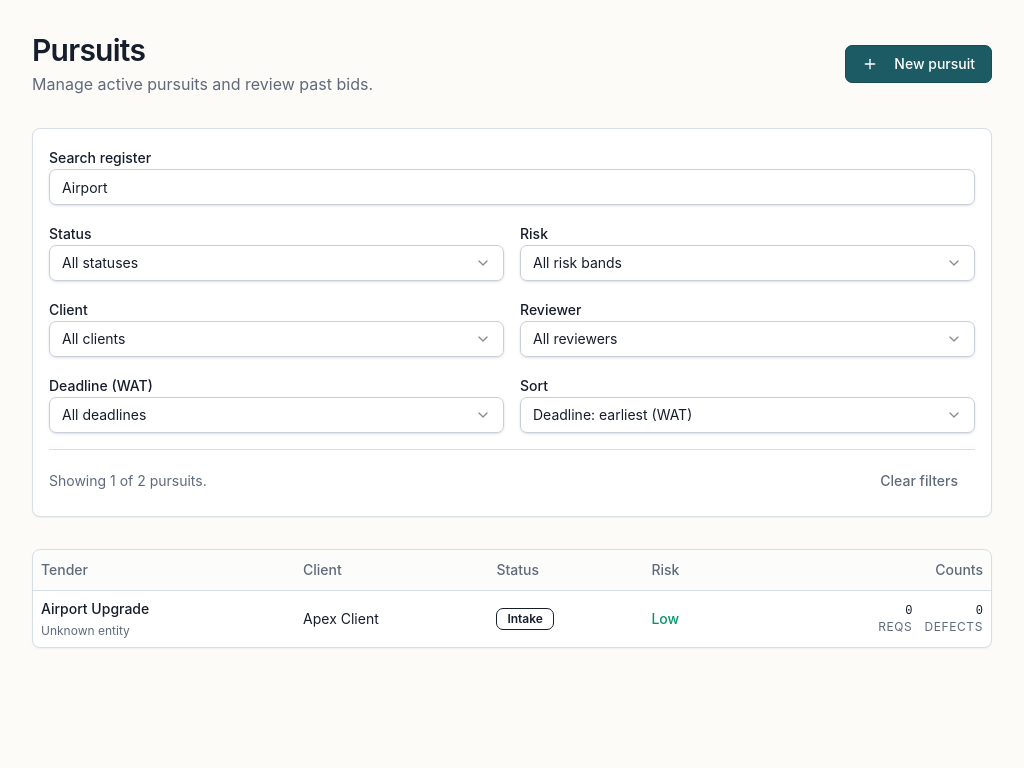
Test: project register controls › applies bounded search from the URL and writes subsequent search changes back
expect the link "Airport Upgrade" is shown: met, box [41, 598, 149, 618]
expect the text "Bridge Rehabilitation" is not shown: met
Replace the text in the search field labelled "Search register" with "Bridge" at (512, 187), box [49, 169, 975, 205]
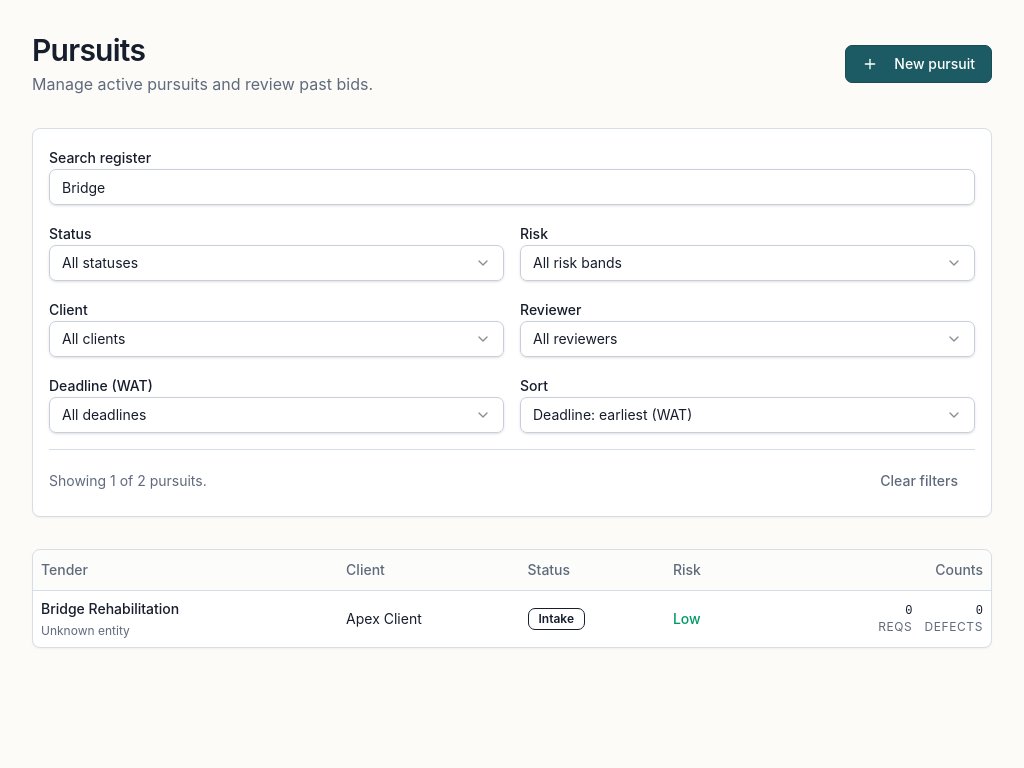
expect the link "Bridge Rehabilitation" is shown: met, box [41, 598, 179, 618]
expect the link "Airport Upgrade" is gone: met
